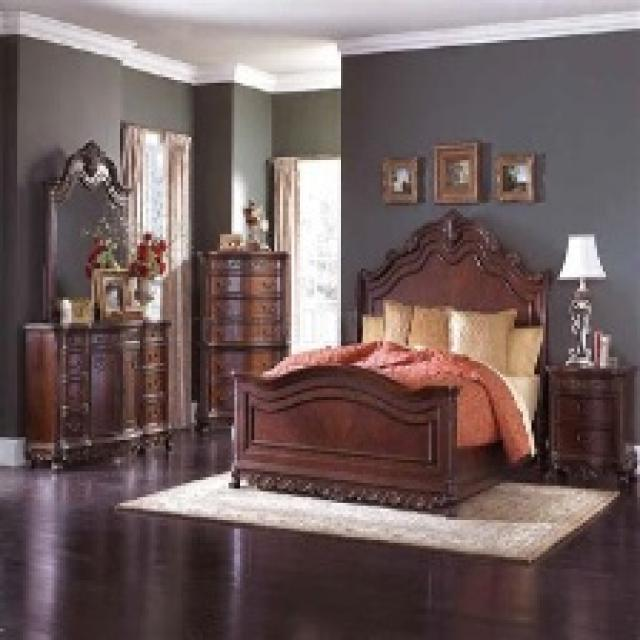Bed: (226, 206, 551, 514)
